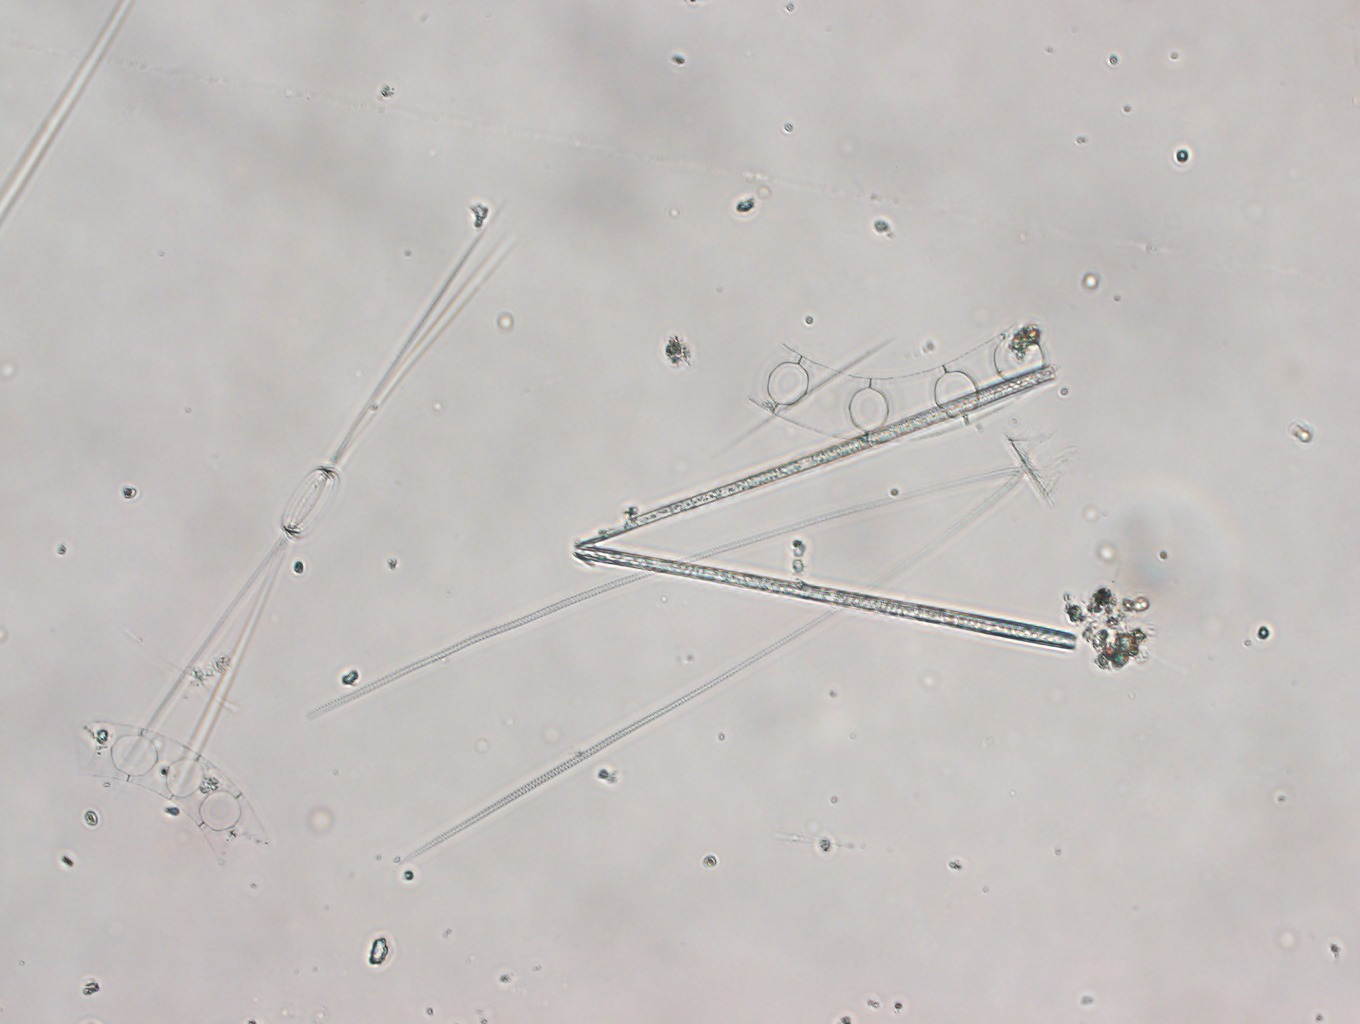chaetoceros: (110, 201, 510, 786)
eucampia: (743, 319, 1065, 449), (75, 712, 273, 868)
thalassionema frauenfeldii: (566, 362, 1076, 665)
